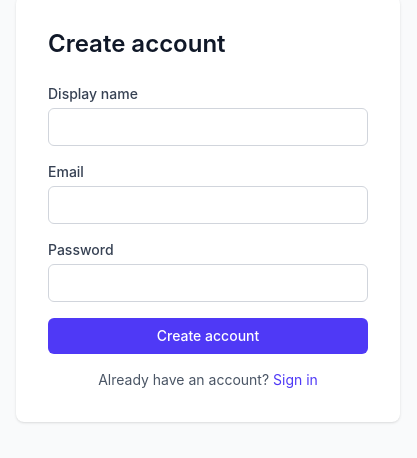
Test case: RegisterPage › shows error message on 409 duplicate email
Type "Alice" into the field labelled "Display name" at (208, 127), box [48, 108, 368, 146]
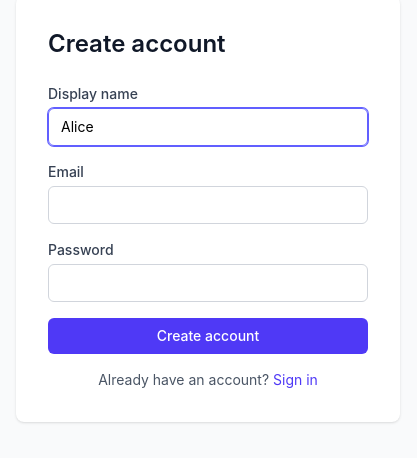
Type "existing@example.com" into the field labelled "Email" at (208, 205), box [48, 186, 368, 224]
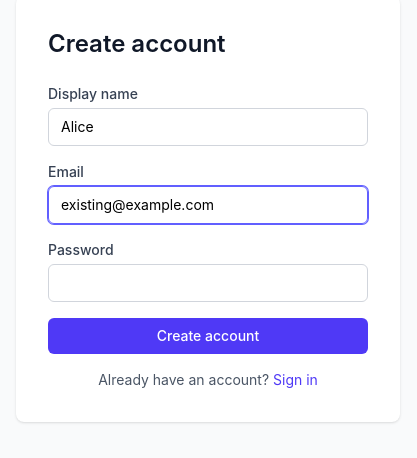
Type "password123" into the password field labelled "Password" at (208, 283), box [48, 264, 368, 302]
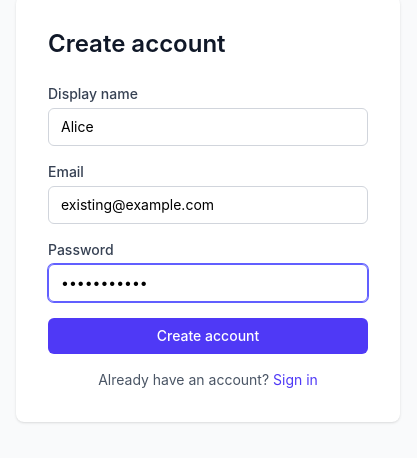
Click the button "Create account" at (208, 336), box [48, 318, 368, 354]
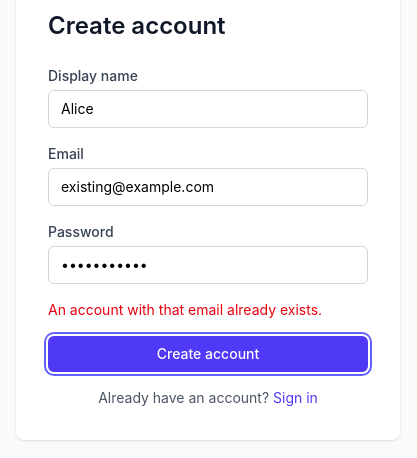
Expected: the text "An account with that email already exists." is shown, [48, 300, 368, 320]
